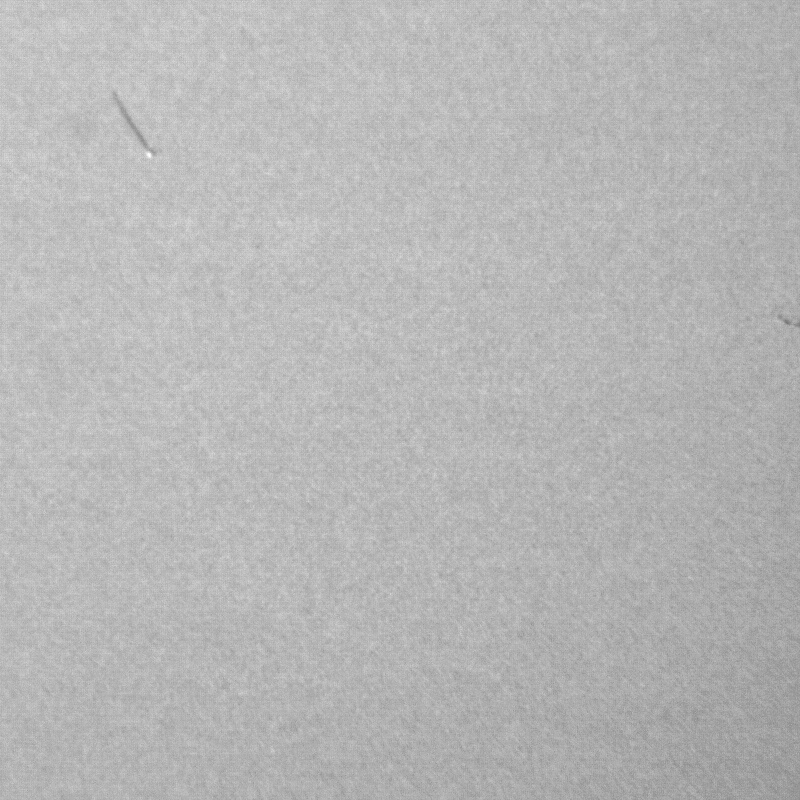defect: (112, 93, 164, 161), (777, 311, 799, 333)
